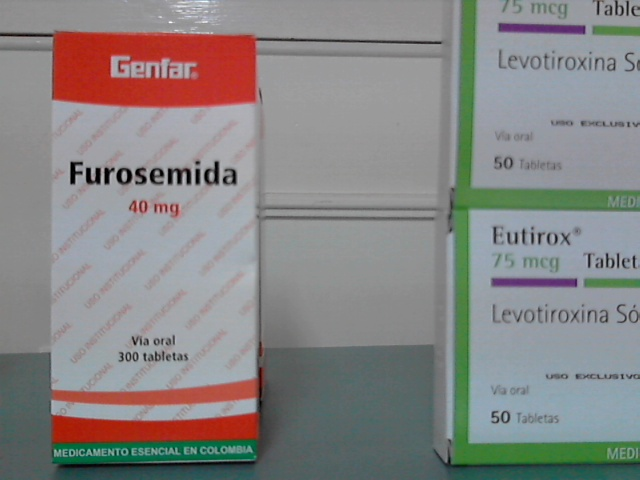Genfar: (52, 33, 260, 461)
